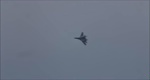maybay_muctieu: (73, 33, 91, 46)
